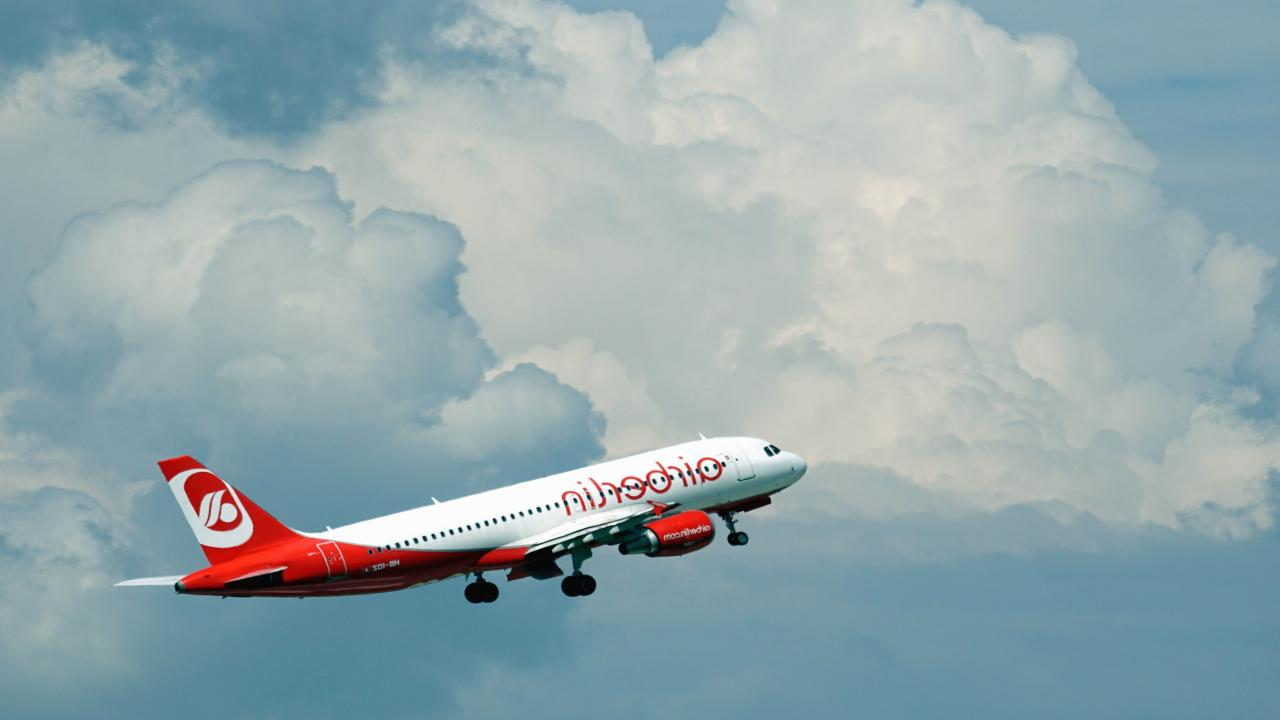Airplane: (98, 419, 822, 613)
